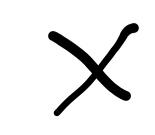mult: (48, 23, 140, 116)
